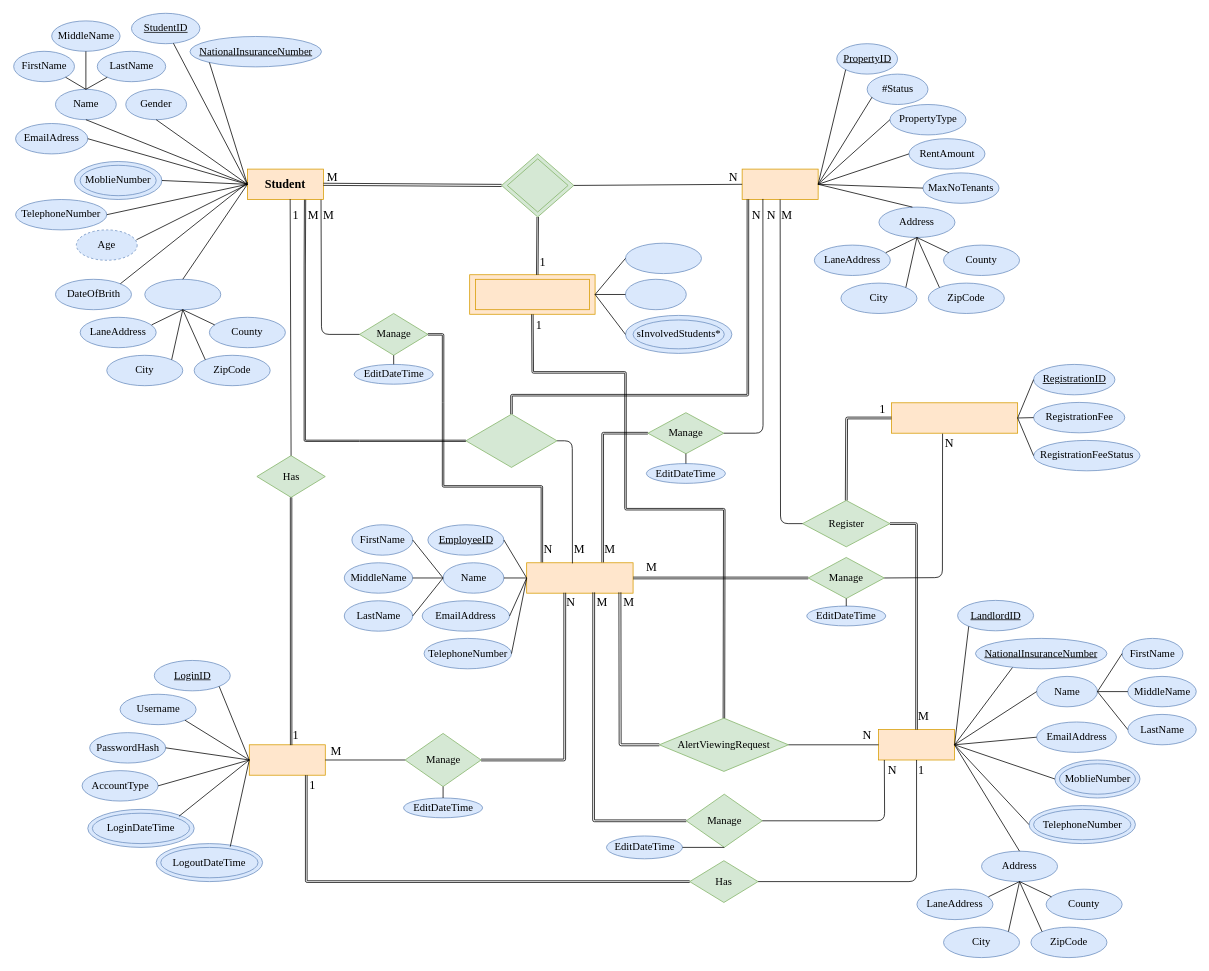
Some shapes in this 1209 by 971 pixel diagram are drawn without their labels. Here are the shapes that lost their labels. From the top down, the centre of each, then its label:
At (x=537, y=185): "view".
At (x=779, y=184): "Property".
At (x=663, y=258): "ViewingID".
At (x=182, y=294): "CurrentAddress".
At (x=532, y=294): "ViewingDetail".
At (x=655, y=294): "Date".
At (x=954, y=417): "PropertyRegistration".
At (x=511, y=440): "RequestViewing".
At (x=579, y=577): "CustomerService".
At (x=287, y=759): "Login".
At (x=916, y=744): "Landlord".
